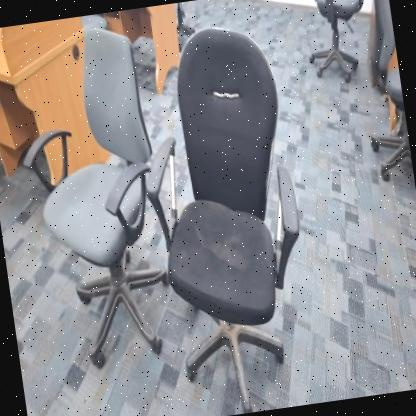chair: (121, 14, 332, 416), (2, 15, 193, 378)
